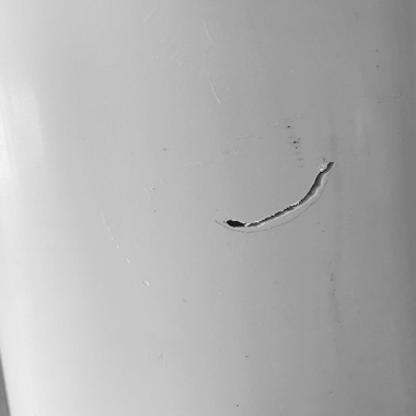fengxi: (219, 159, 339, 231)
